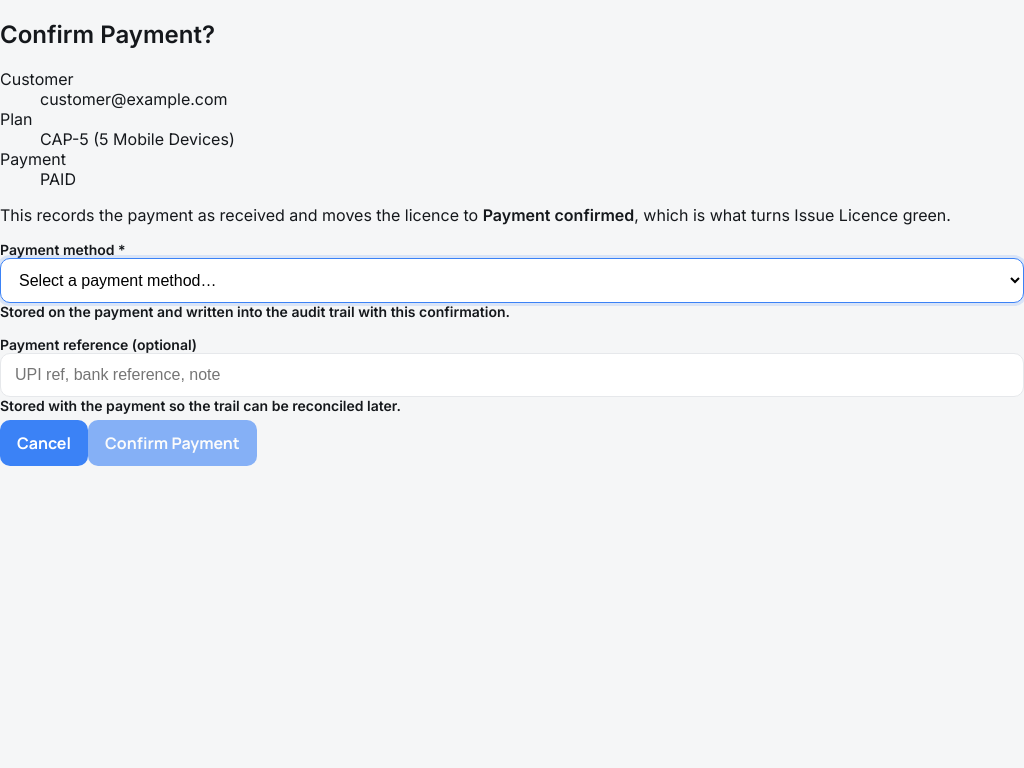
Test: Confirm Payment arms only after a method is chosen › arms the button once a method is selected
Select "UPI" in the dropdown. click: (512, 280)
box: [0, 258, 1023, 303]
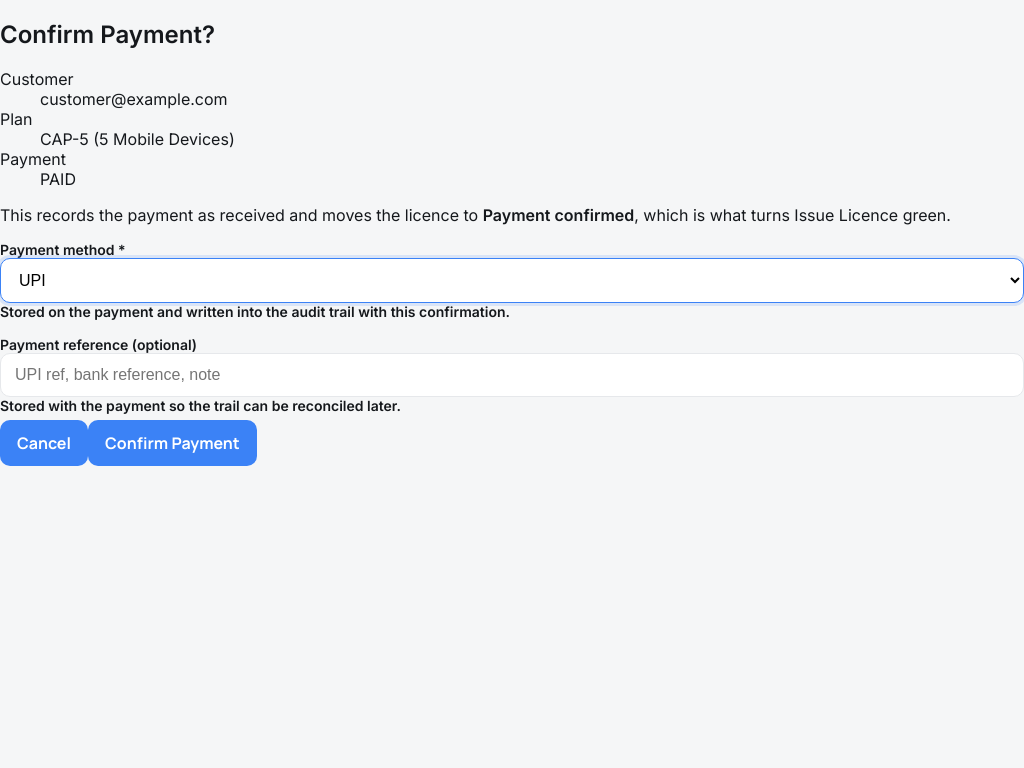
Now the button "Confirm Payment" is enabled, box [88, 420, 257, 466]
